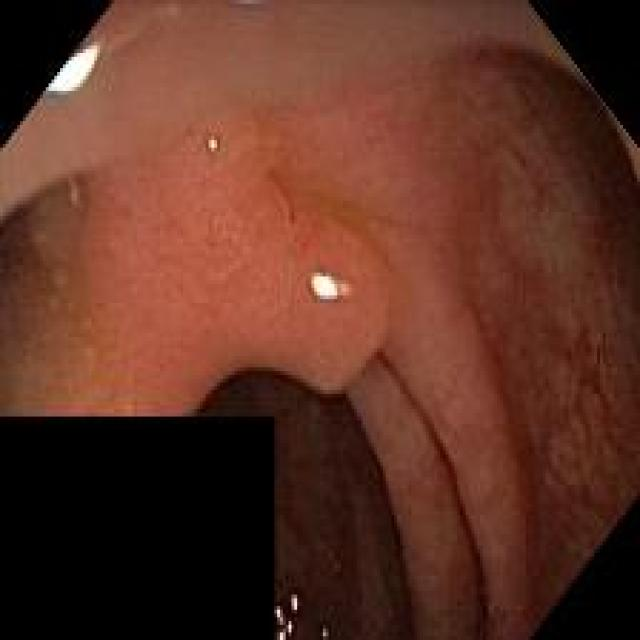Polyps: (244, 214, 388, 391)
